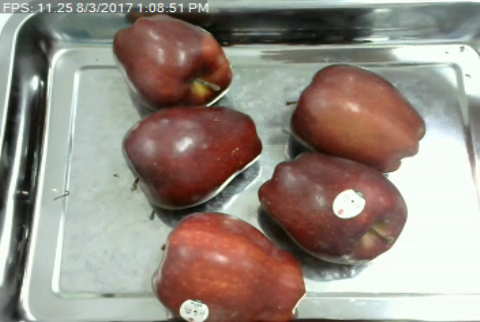Apple: (256, 149, 409, 266), (152, 210, 307, 322), (117, 102, 263, 211), (286, 61, 427, 173), (110, 11, 235, 111)
